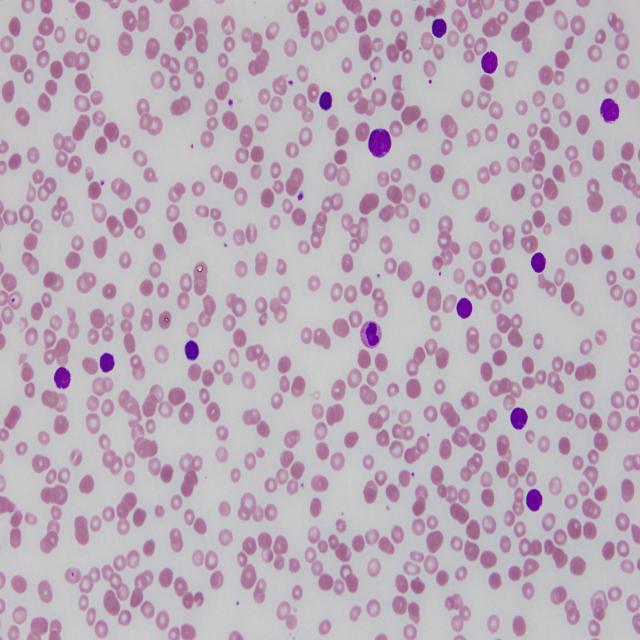cell: (369, 128, 391, 157), (600, 98, 620, 122), (510, 407, 528, 430), (526, 488, 542, 512), (54, 367, 71, 388), (481, 52, 498, 73), (456, 298, 472, 318), (431, 18, 446, 38), (531, 253, 546, 273), (100, 353, 115, 372), (185, 340, 199, 360), (319, 92, 332, 110)
